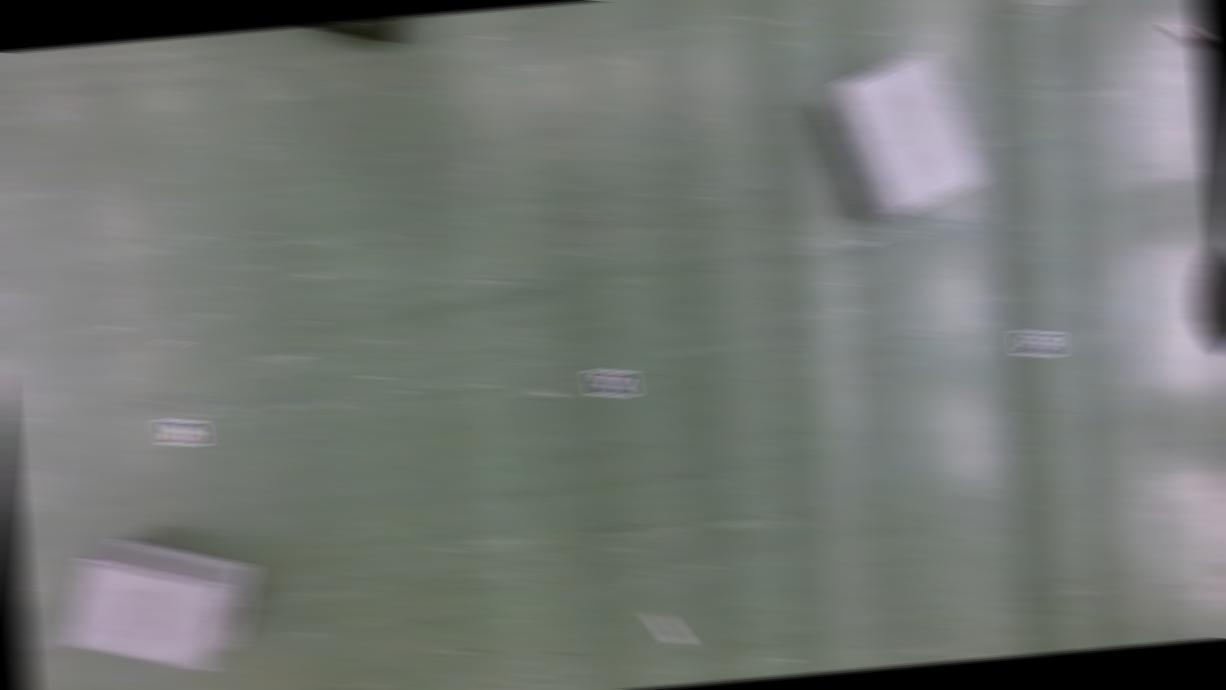probes: (651, 608, 688, 645), (1166, 21, 1208, 51)
rako: (57, 524, 263, 682), (814, 44, 985, 219), (284, 17, 416, 50)
